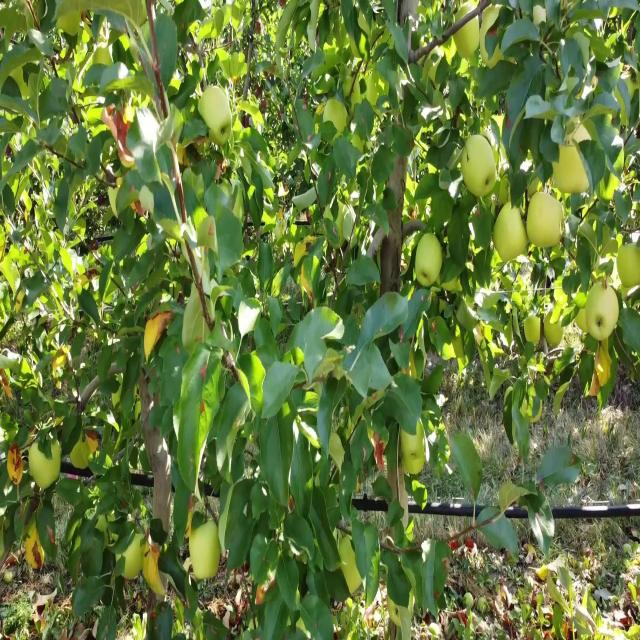apple: (464, 135, 499, 199), (528, 191, 564, 251), (553, 142, 590, 197), (496, 206, 529, 263), (192, 526, 222, 583), (416, 234, 444, 290), (32, 440, 63, 489), (144, 533, 167, 597), (400, 426, 426, 478), (616, 241, 640, 290), (596, 291, 620, 340), (144, 547, 167, 597), (484, 14, 502, 69), (488, 177, 511, 215), (456, 21, 480, 57), (144, 319, 163, 361), (124, 540, 143, 581), (596, 341, 613, 386), (120, 120, 135, 169), (544, 312, 564, 348), (600, 170, 620, 203), (8, 447, 25, 485), (256, 575, 276, 606), (524, 312, 541, 347), (300, 270, 315, 304), (528, 177, 546, 203), (52, 355, 68, 384), (132, 184, 145, 219), (556, 284, 569, 315), (444, 35, 457, 66), (576, 305, 589, 334), (84, 433, 100, 455), (588, 376, 600, 398), (492, 248, 505, 268)
